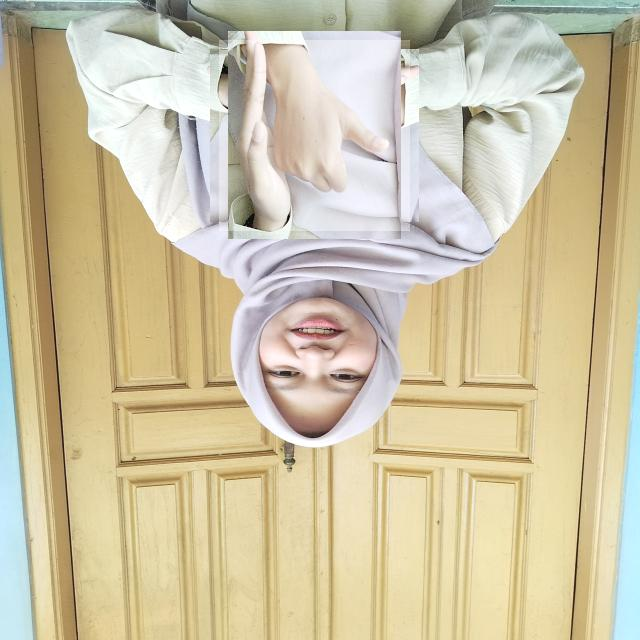cantik: (219, 40, 410, 231)
